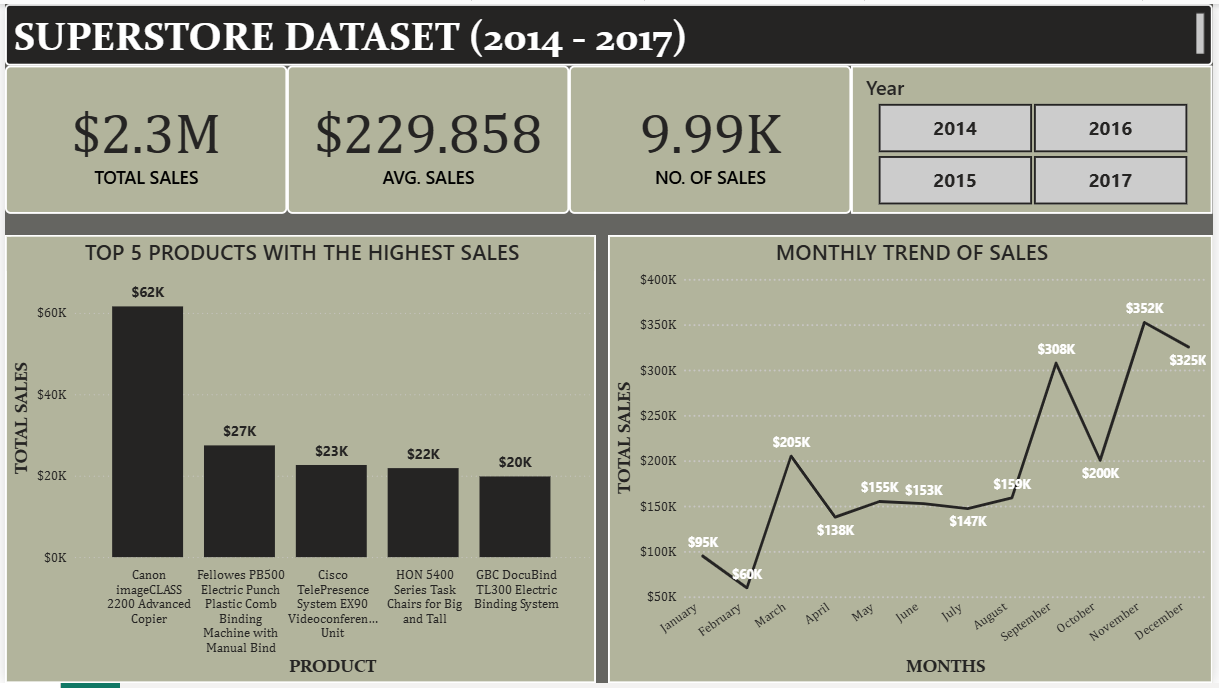

This screenshot's page, from the dashboard's own definition file:
{"tool":"powerbi","page":{"name":"Page 1","canvas":[1280,720],"ordinal":0},"visuals":[{"type":"card","fields":{"Values":["Sum(Superstore Clean.SALES)"]},"box":[0,65.2,299,157.5],"z":0},{"type":"card","fields":{"Values":["CountNonNull(Superstore Clean.SALES)"]},"box":[598.1,65.2,299,157.5],"z":1000},{"type":"card","fields":{"Values":["Avg(Superstore Clean.SALES)"]},"box":[299,65.2,299,157.5],"z":2000},{"type":"textbox","box":[0,0,1280.4,65.2],"z":3000},{"type":"clusteredColumnChart","title":"TOP 5 PRODUCTS WITH THE HIGHEST SALES","fields":{"Category":["Superstore Clean.PRODUCT NAME"],"Y":["Sum(Superstore Clean.SALES)"]},"box":[0,245,626.7,475.6],"z":4000},{"type":"slicer","fields":{"Values":["Superstore Clean.ORDER DATE.Variation.Date Hierarchy.Year"]},"box":[897.1,65.2,383.3,157.5],"z":5000},{"type":"lineChart","title":"MONTHLY TREND OF SALES","fields":{"Category":["Superstore Clean.ORDER DATE.Variation.Date Hierarchy.Month"],"Y":["Sum(Superstore Clean.SALES)"]},"box":[639.4,245,641,475.6],"z":6000}]}

Visuals, with their boxes in screenshot pixels (x1, y1, x2, y2), scaled from the page's 1280x720 canvas onto the 1219x688 screenshot:
card - Sum(Superstore Clean.SALES): (left=0, top=62, right=285, bottom=213)
card - CountNonNull(Superstore Clean.SALES): (left=570, top=62, right=854, bottom=213)
card - Avg(Superstore Clean.SALES): (left=285, top=62, right=570, bottom=213)
textbox: (left=0, top=0, right=1218, bottom=62)
"TOP 5 PRODUCTS WITH THE HIGHEST SALES" clusteredColumnChart: (left=0, top=234, right=597, bottom=687)
slicer - Superstore Clean.ORDER DATE.Variation.Date Hierarchy.Year: (left=854, top=62, right=1218, bottom=213)
"MONTHLY TREND OF SALES" lineChart: (left=609, top=234, right=1218, bottom=687)
